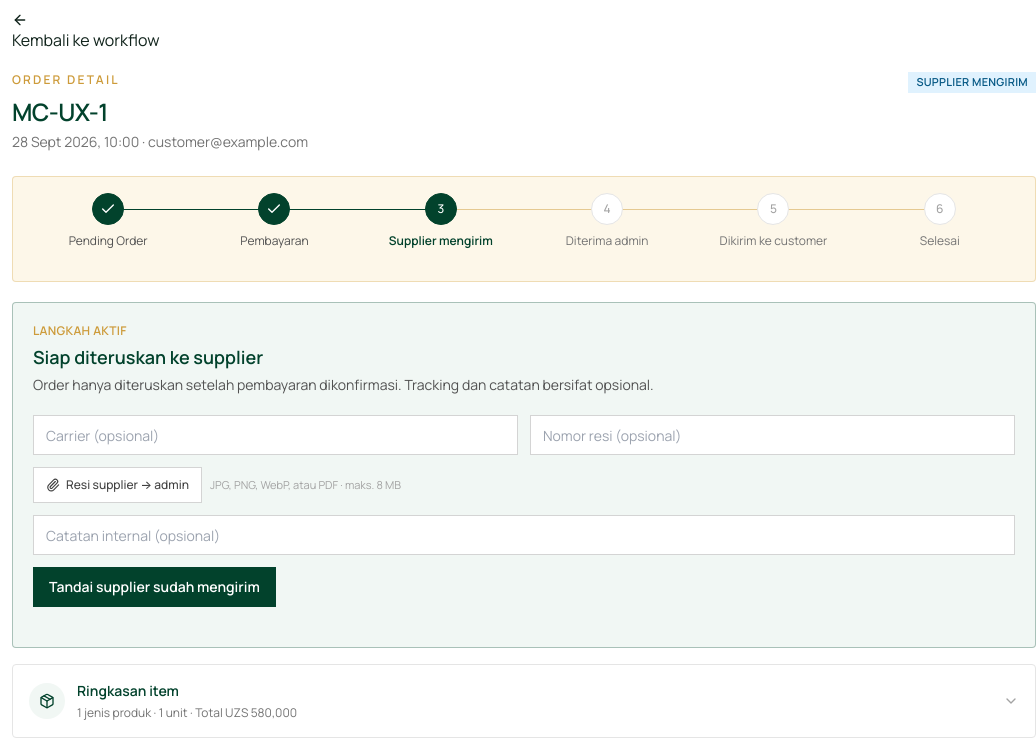
Test case: marking the supplier shipment advances progress to admin receipt
Expected: the list item "3 Supplier mengirim" is shown, [389,193,493,249]
Click the button "Tandai supplier sudah mengirim" at point(154, 587), box [33,567,276,607]
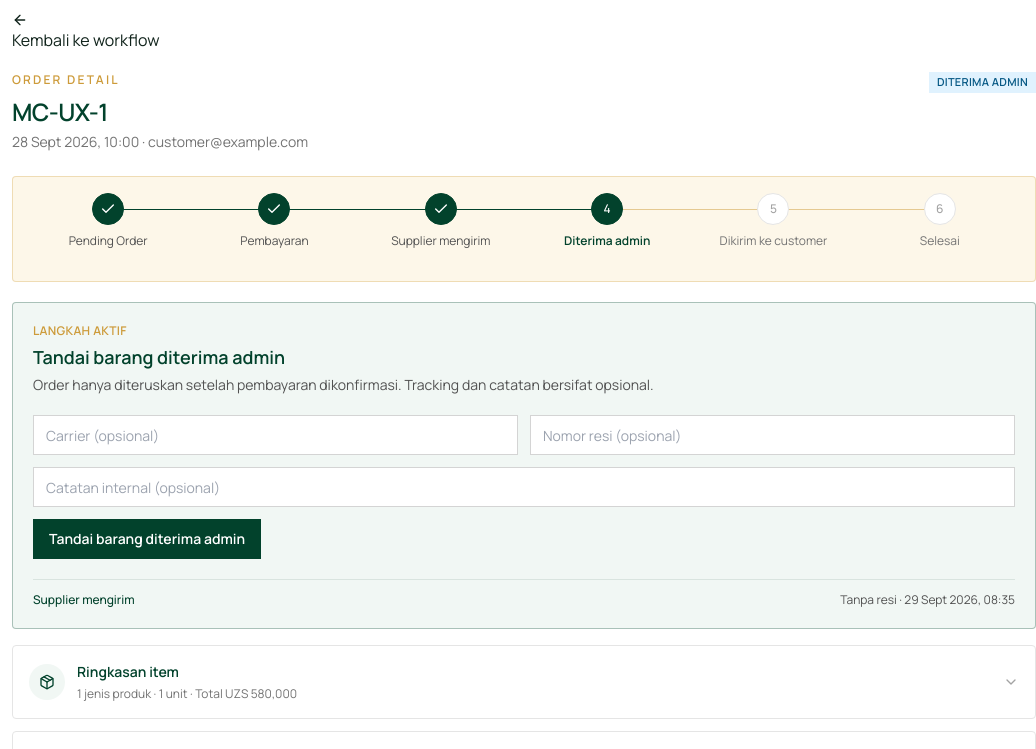
Expected: the list item "4 Diterima admin" is shown, [564,193,650,249]
Result: the text "Tandai barang diterima admin" is shown at [33,345,285,369]
